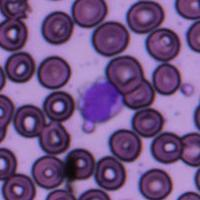L: (77, 76, 123, 124)
